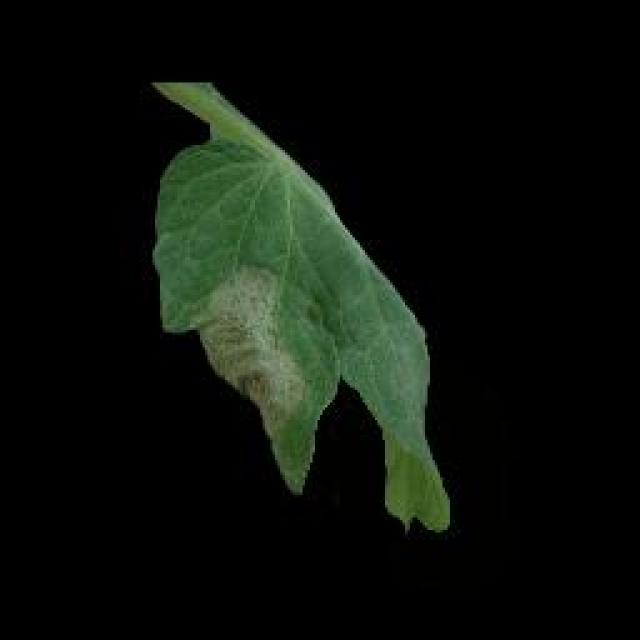Tomato___Late_blight: (150, 82, 452, 538)
